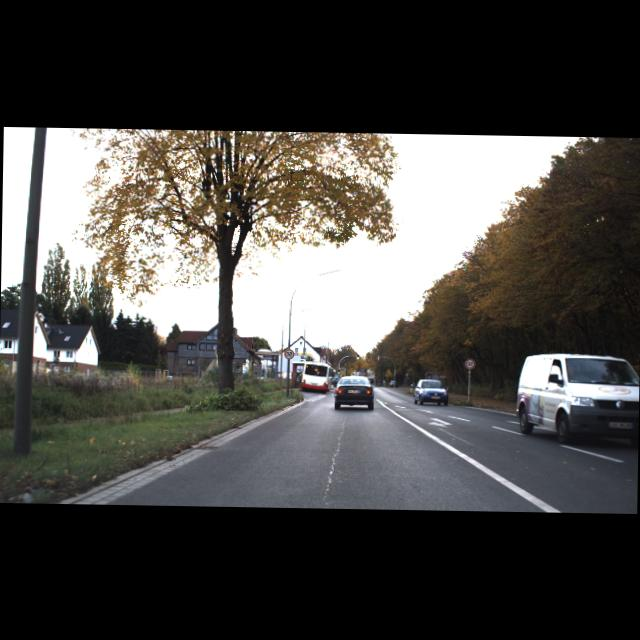prohibitory: (465, 358, 476, 369), (284, 348, 294, 359)
